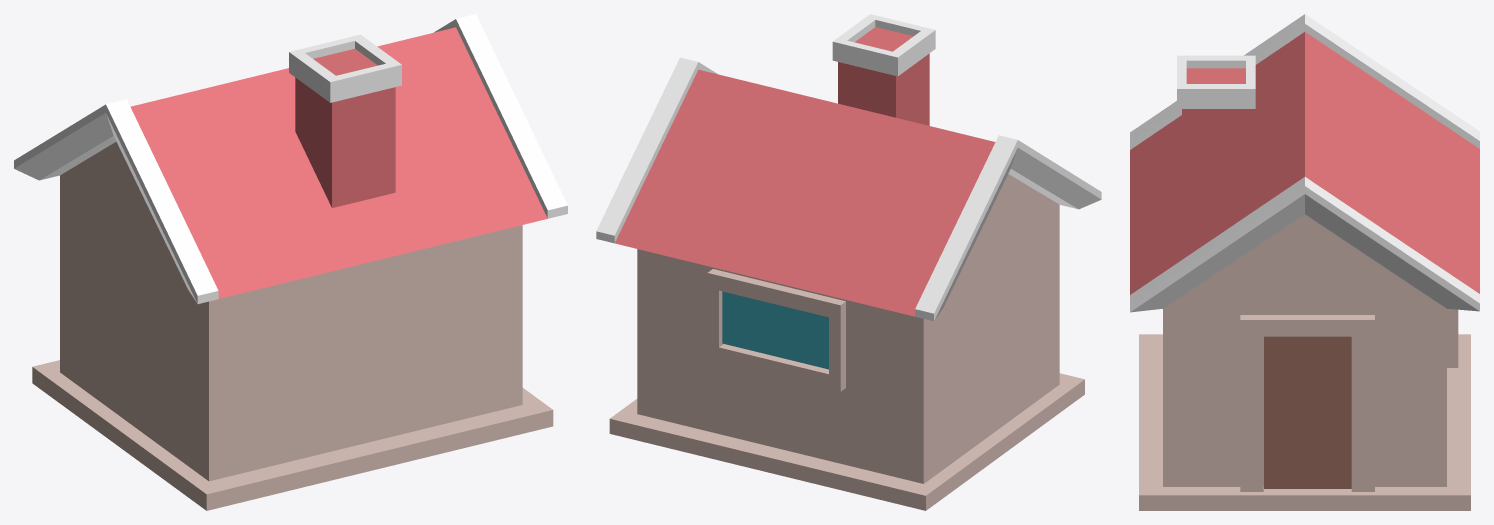
Rendered from House.fbx.
3 renders of one model, left to right at view 1: azimuth 30°, elevation 25°; view 2: azimuth 150°, elevation 25°; view 3: azimuth 270°, elevation 25°, orthographic. The views are drawn at different scales.
Visible parts, largest first — view 1: House, Roof, RoofEdge, SkorstenRing; view 2: House, Roof, RoofEdge, Window, WindowInside, SkorstenRing; view 3: House, Roof, RoofEdge, Door, DoorFrame, SkorstenRing, Window.
Part boxes in pixels (<box>): House: <box>32,141,553,510</box>; Roof: <box>130,27,547,298</box>; RoofEdge: <box>14,14,567,303</box>; SkorstenRing: <box>289,34,401,102</box>; House: <box>609,174,1084,510</box>; Roof: <box>615,27,995,316</box>; RoofEdge: <box>596,57,1101,321</box>; Window: <box>707,269,845,391</box>; WindowInside: <box>722,291,828,369</box>; SkorstenRing: <box>832,14,935,76</box>; House: <box>1139,214,1470,510</box>; Roof: <box>1130,32,1479,294</box>; RoofEdge: <box>1130,14,1479,312</box>; Door: <box>1264,336,1351,488</box>; DoorFrame: <box>1240,315,1374,491</box>; SkorstenRing: <box>1177,55,1255,108</box>; Window: <box>1447,309,1458,367</box>.
Bounding box in the file's own units: 605 × 594 × 520.
